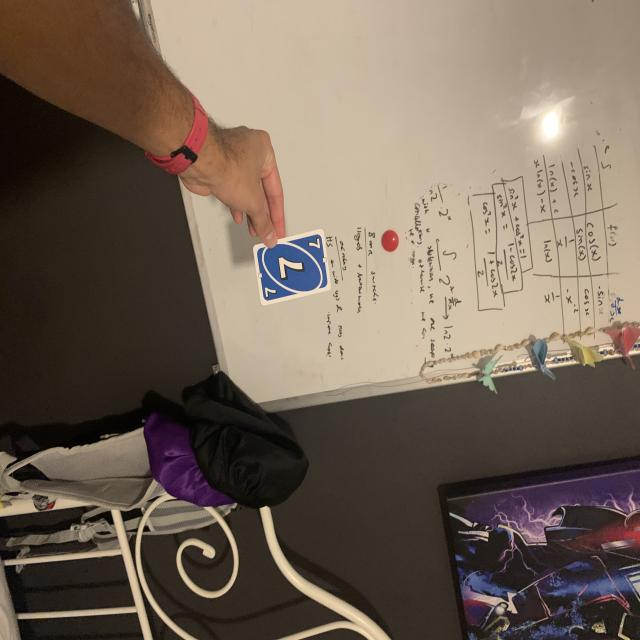lblue-7: (305, 234, 322, 253)
